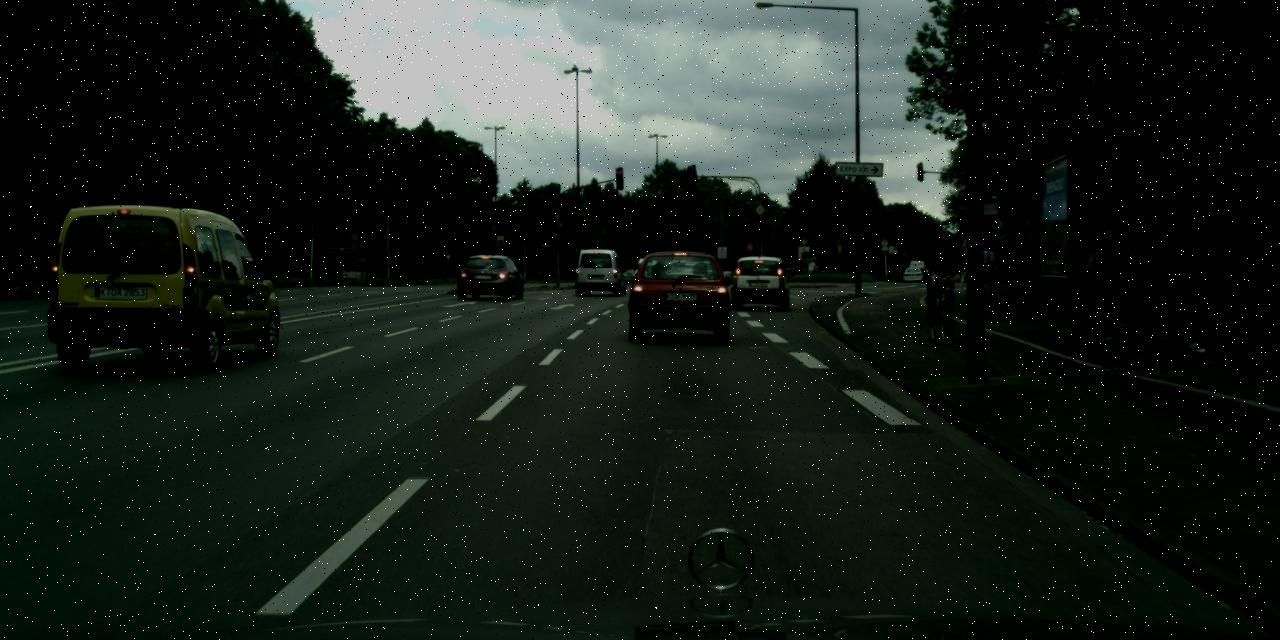ped: (1089, 216, 1137, 334), (924, 230, 961, 322)
